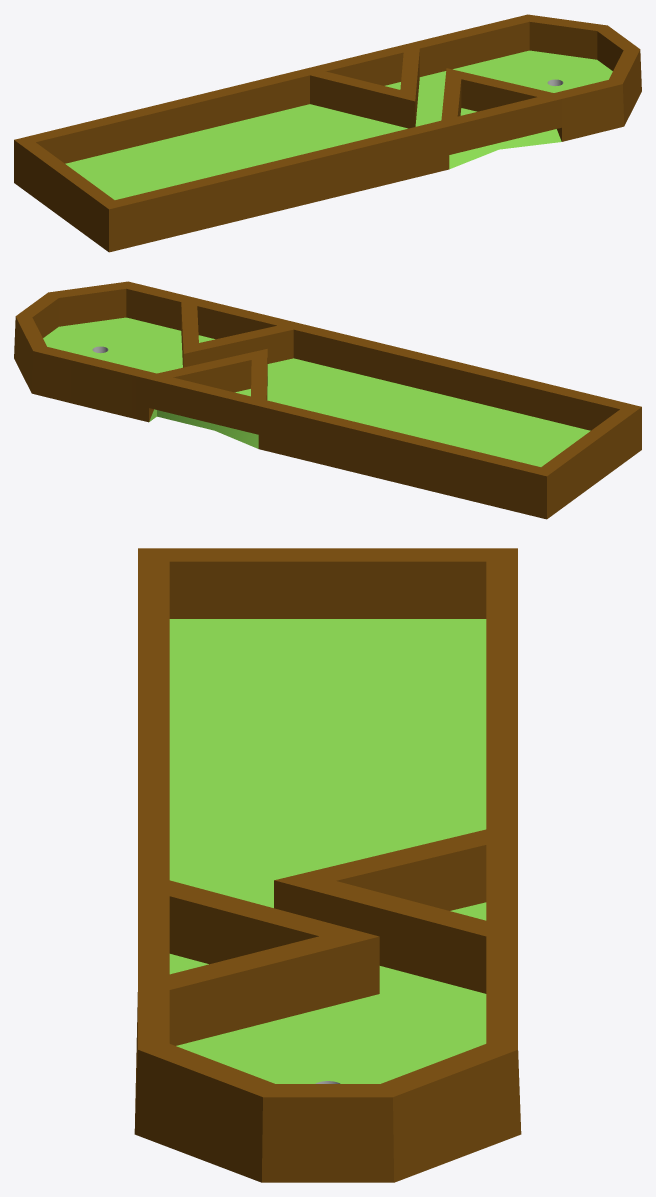
The model's file is hole5.fbx.
3 renders of one model, top to bottom at view 1: azimuth 30°, elevation 25°; view 2: azimuth 150°, elevation 25°; view 3: azimuth 270°, elevation 25°, orthographic. The views are drawn at different scales.
Visible parts, largest first — view 1: hole5_plane1; view 2: hole5_plane1; view 3: hole5_plane1.
Boxes of the visible parts, x1=… form: hole5_plane1: x1=14, y1=14, x2=641, y2=252; hole5_plane1: x1=14, y1=281, x2=641, y2=519; hole5_plane1: x1=134, y1=548, x2=521, y2=1182.
Bounding box in the file's own units: 411 × 38.32 × 122.
